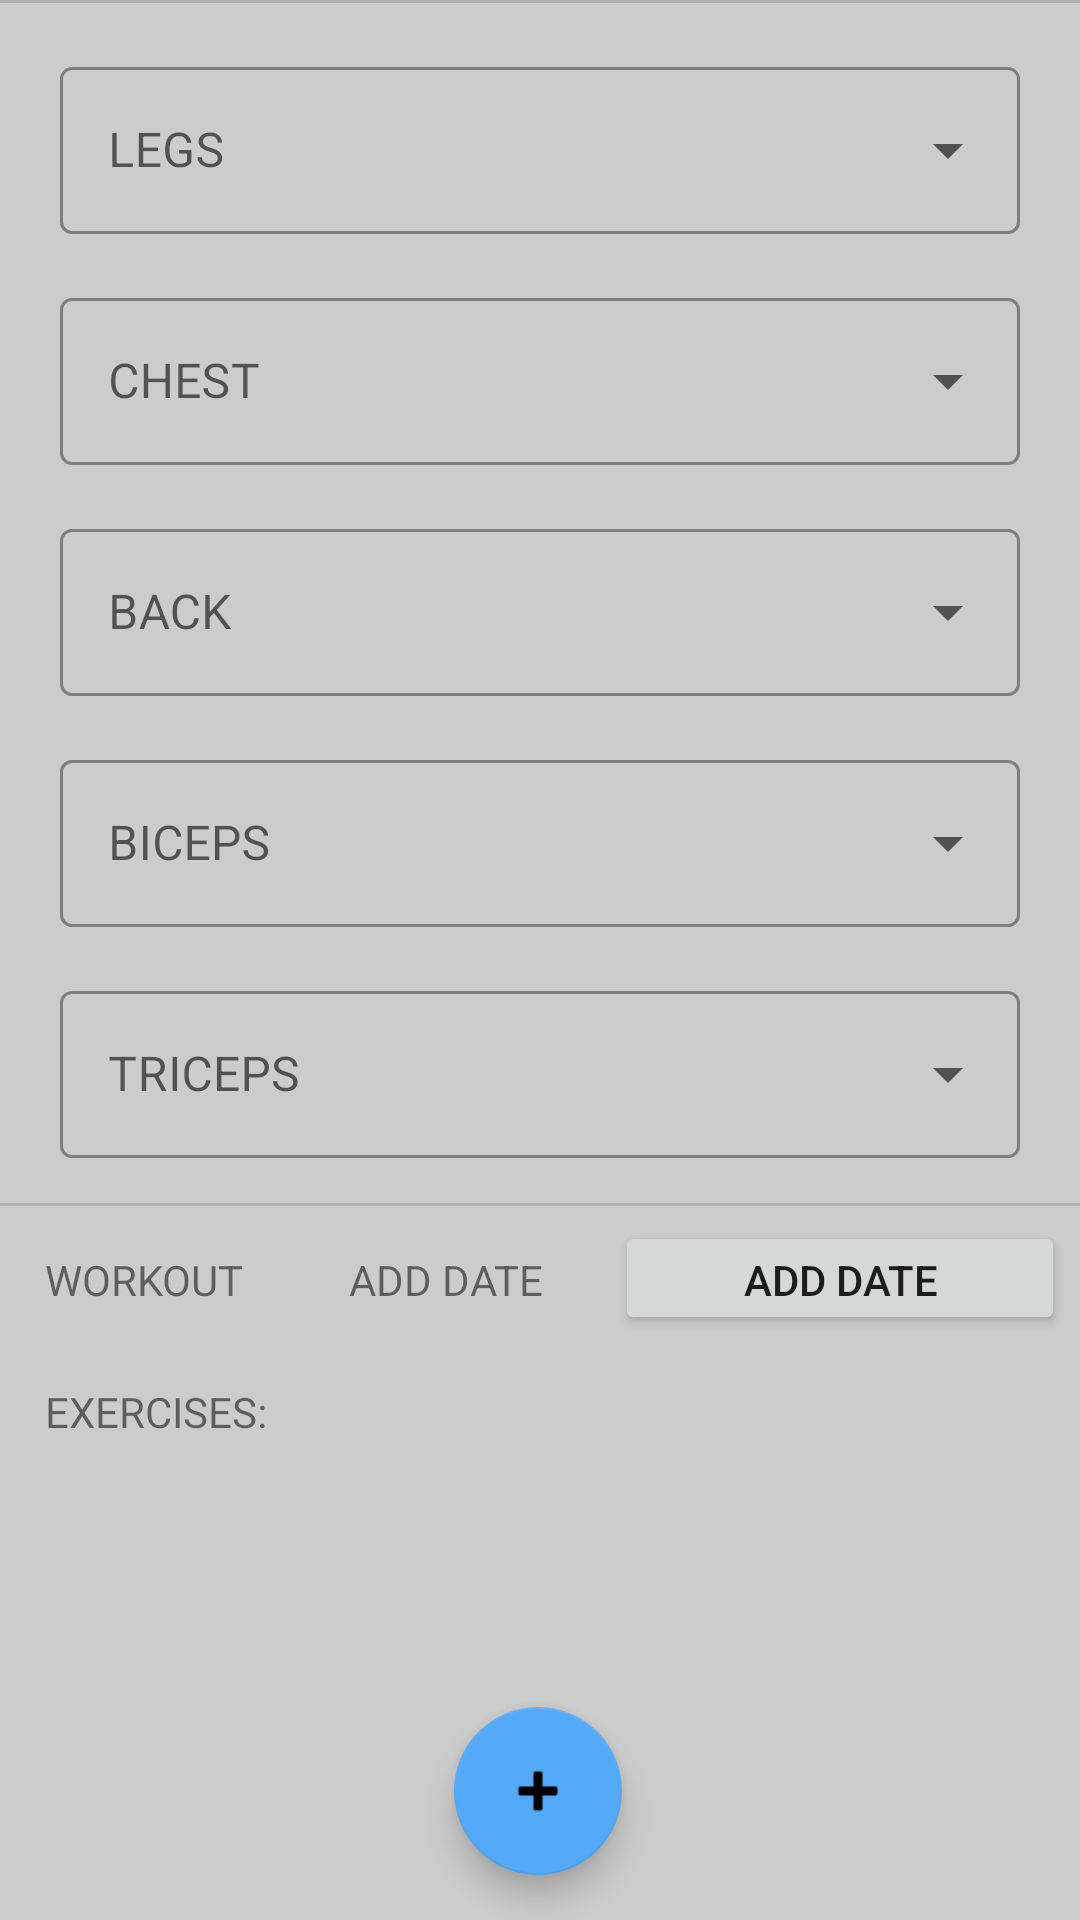

Icons on this 1080w x 1920h Android screen, each with the point to tap as [x,y]:
add: [538,1791]
